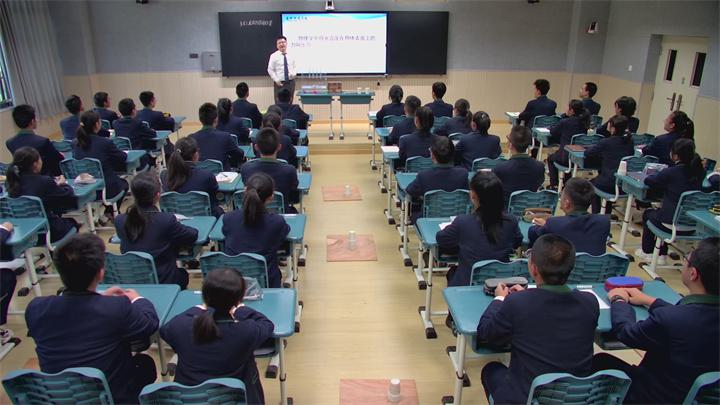listen: (490, 237, 604, 381), (28, 237, 153, 359), (611, 241, 720, 368), (163, 267, 273, 377), (441, 173, 527, 260), (123, 179, 199, 258), (529, 182, 615, 243), (3, 147, 75, 216), (223, 179, 289, 249), (581, 117, 636, 173), (653, 145, 699, 202), (154, 137, 216, 179), (247, 129, 292, 185), (498, 127, 549, 175), (189, 103, 234, 149), (10, 101, 59, 143), (81, 111, 119, 159), (524, 76, 559, 127), (656, 112, 701, 147), (404, 111, 443, 150), (138, 85, 176, 121), (463, 114, 498, 153), (271, 86, 312, 115), (425, 79, 450, 108)
